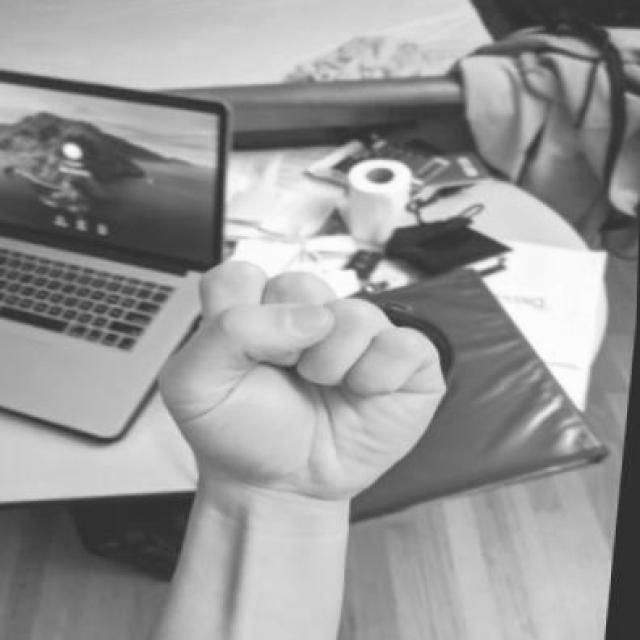S: (139, 249, 469, 522)
